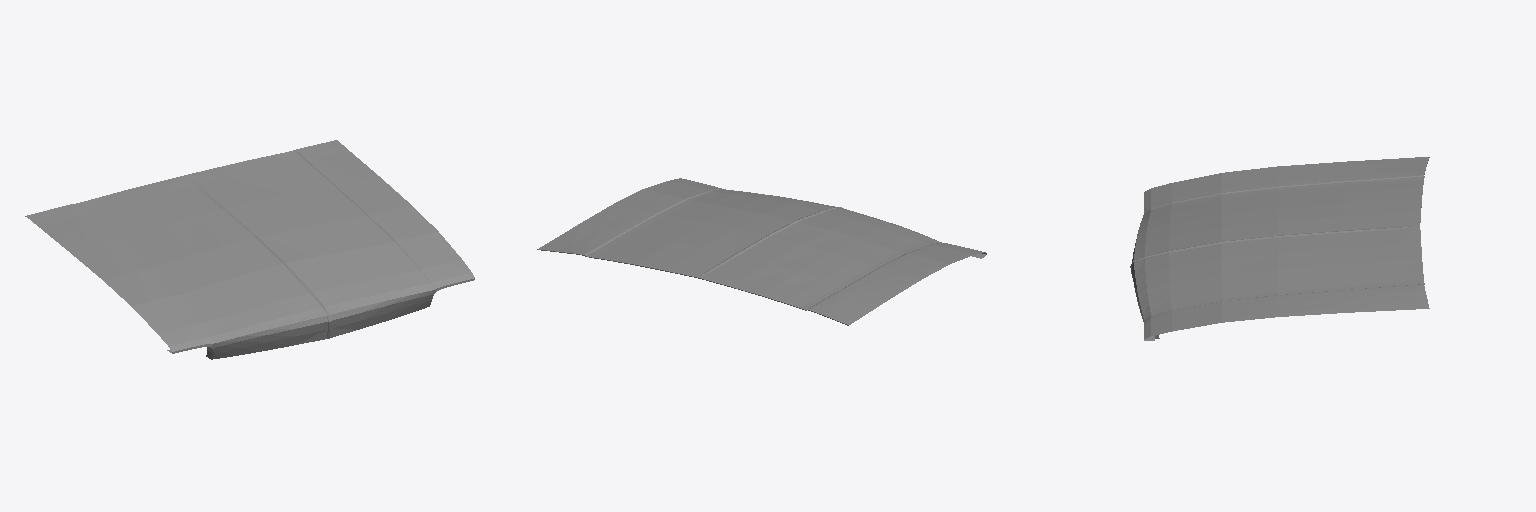
File: capo.obj
The picture shows the model from 3 angles: view 1: azimuth 30°, elevation 25°; view 2: azimuth 150°, elevation 25°; view 3: azimuth 270°, elevation 25°; orthographic projection.
Visible parts, largest first — view 1: Capo; view 2: Capo; view 3: Capo.
Part boxes in pixels (x1,y1,x2,y2): Capo: (25, 140, 474, 359); Capo: (537, 178, 986, 325); Capo: (1130, 157, 1429, 340).
Size of the model in its own units: 12.09 by 2.2 by 10.05.